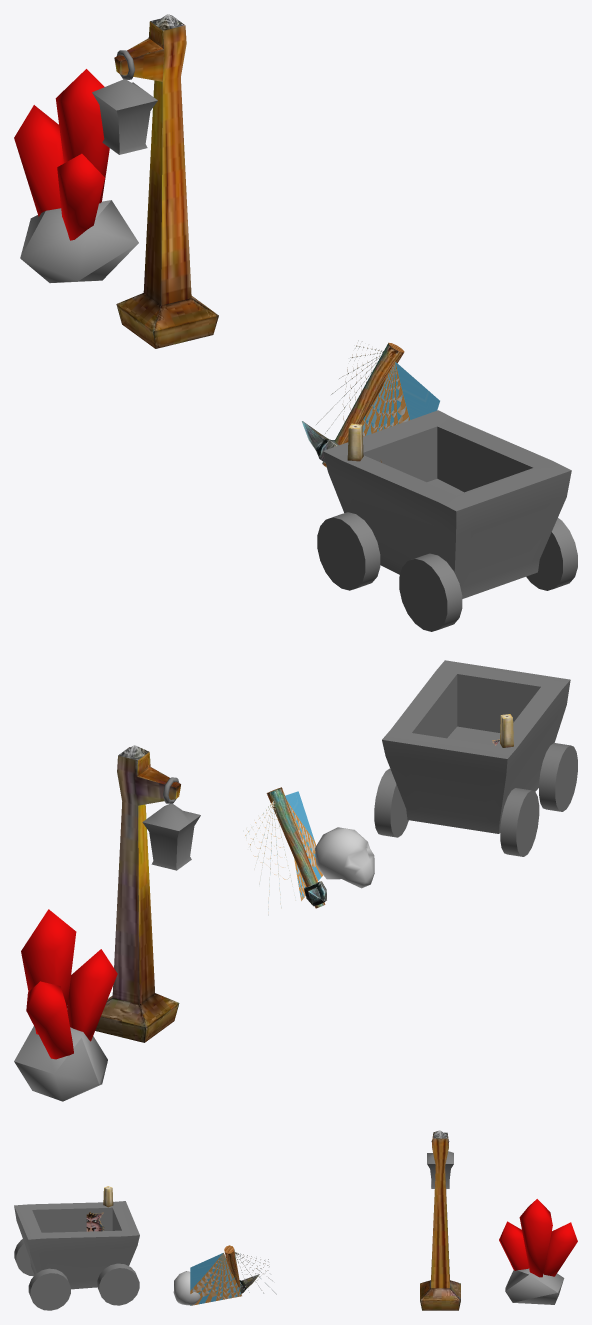
File: OBJETOS.FBX
The picture shows the model from 3 angles, top to bottom: view 1: azimuth 30°, elevation 25°; view 2: azimuth 150°, elevation 25°; view 3: azimuth 270°, elevation 25°; orthographic projection. The views are drawn at different scales.
Visible parts, largest first — view 1: Box003, Box001, pedra, Cylinder003, Cylinder001, crystal low, crystal low001, Box002, Plane002, crystal low002, Cylinder004, Cone001; view 2: Box003, Box001, pedra, crystal low, crystal low002, caveira, Box002, crystal low001, Cylinder001, Cylinder003, Cylinder005, Cone001 (+1 smaller); view 3: Box003, Box001, Plane002, crystal low, pedra, Cylinder004, Cylinder005, crystal low001, crystal low002, caveira, Box002, Cylinder003 (+2 smaller).
Boxes of the visible parts, x1=… form: Box003: x1=323, y1=410, x2=571, y2=598; Box001: x1=114, y1=14, x2=218, y2=348; pedra: x1=20, y1=200, x2=138, y2=283; Cylinder003: x1=399, y1=553, x2=462, y2=631; Cylinder001: x1=317, y1=512, x2=380, y2=590; crystal low: x1=55, y1=69, x2=109, y2=203; crystal low001: x1=14, y1=105, x2=63, y2=216; Box002: x1=92, y1=79, x2=157, y2=154; Plane002: x1=360, y1=361, x2=439, y2=436; crystal low002: x1=57, y1=153, x2=104, y2=240; Cylinder004: x1=526, y1=518, x2=577, y2=590; Cone001: x1=322, y1=342, x2=404, y2=467; Box003: x1=382, y1=660, x2=570, y2=833; Box001: x1=95, y1=745, x2=180, y2=1042; pedra: x1=14, y1=1026, x2=107, y2=1101; crystal low: x1=21, y1=909, x2=76, y2=1034; crystal low002: x1=67, y1=949, x2=117, y2=1041; caveira: x1=315, y1=827, x2=374, y2=888; Box002: x1=142, y1=803, x2=200, y2=870; crystal low001: x1=26, y1=981, x2=73, y2=1059; Cylinder001: x1=500, y1=788, x2=539, y2=856; Cylinder003: x1=539, y1=743, x2=577, y2=811; Cylinder005: x1=374, y1=768, x2=408, y2=837; Cone001: x1=266, y1=787, x2=325, y2=908; Box003: x1=14, y1=1201, x2=139, y2=1289; Box001: x1=420, y1=1130, x2=460, y2=1310; Plane002: x1=190, y1=1253, x2=241, y2=1305; crystal low: x1=519, y1=1199, x2=552, y2=1277; pedra: x1=505, y1=1268, x2=564, y2=1304; Cylinder004: x1=28, y1=1268, x2=70, y2=1310; Cylinder005: x1=97, y1=1263, x2=139, y2=1305; crystal low001: x1=543, y1=1222, x2=577, y2=1276; crystal low002: x1=499, y1=1221, x2=528, y2=1270; caveira: x1=173, y1=1271, x2=200, y2=1305; Box002: x1=427, y1=1151, x2=453, y2=1188; Cylinder003: x1=14, y1=1239, x2=34, y2=1276.
Size of the model in its own units: 65.99 by 109 by 320.
